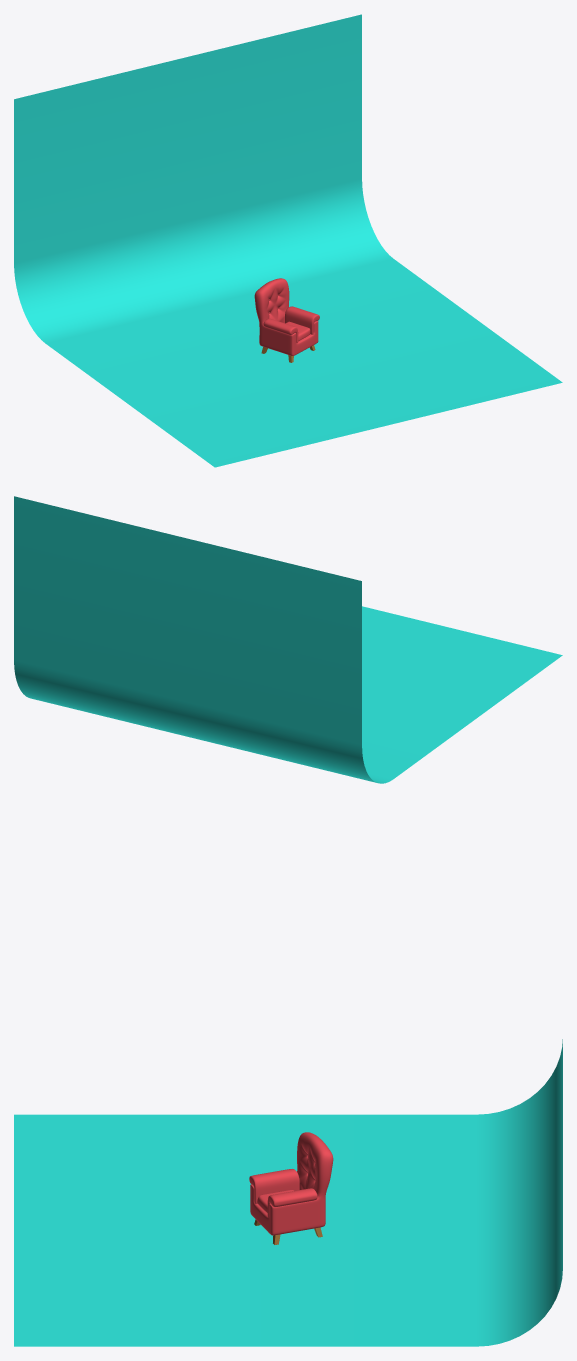
The model's file is chair.fbx.
3 renders of one model, top to bottom at view 1: azimuth 30°, elevation 25°; view 2: azimuth 150°, elevation 25°; view 3: azimuth 270°, elevation 25°, orthographic. The views are drawn at different scales.
Parts seen in each view (by area): view 1: Plane.003, Plane, Plane.002; view 2: Plane.003; view 3: Plane.003, Plane, Plane.002.
Part boxes in pixels (x1,y1,x2,y2): Plane.003: (14, 14, 562, 467); Plane: (254, 278, 318, 355); Plane.002: (263, 306, 319, 342); Plane.003: (14, 496, 562, 783); Plane.003: (14, 1039, 562, 1346); Plane: (250, 1132, 333, 1235); Plane.002: (249, 1169, 317, 1217).
Bounding box in the file's own units: 1834 × 1114 × 1834.
